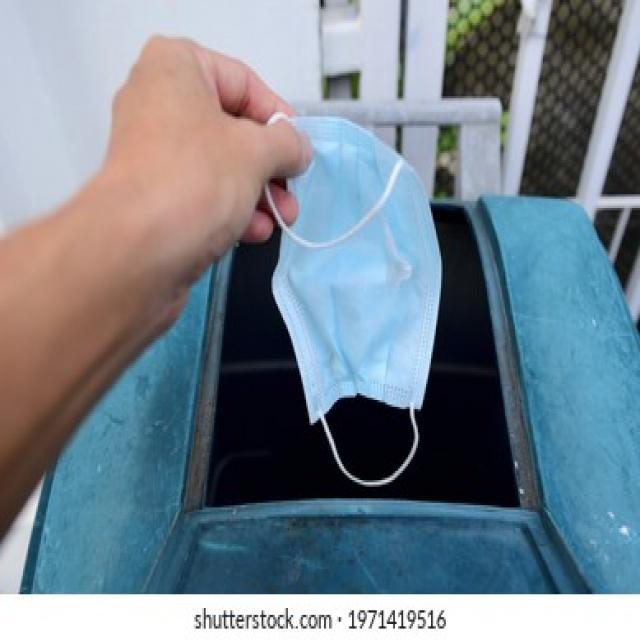non-organic waste: (255, 108, 444, 489)
